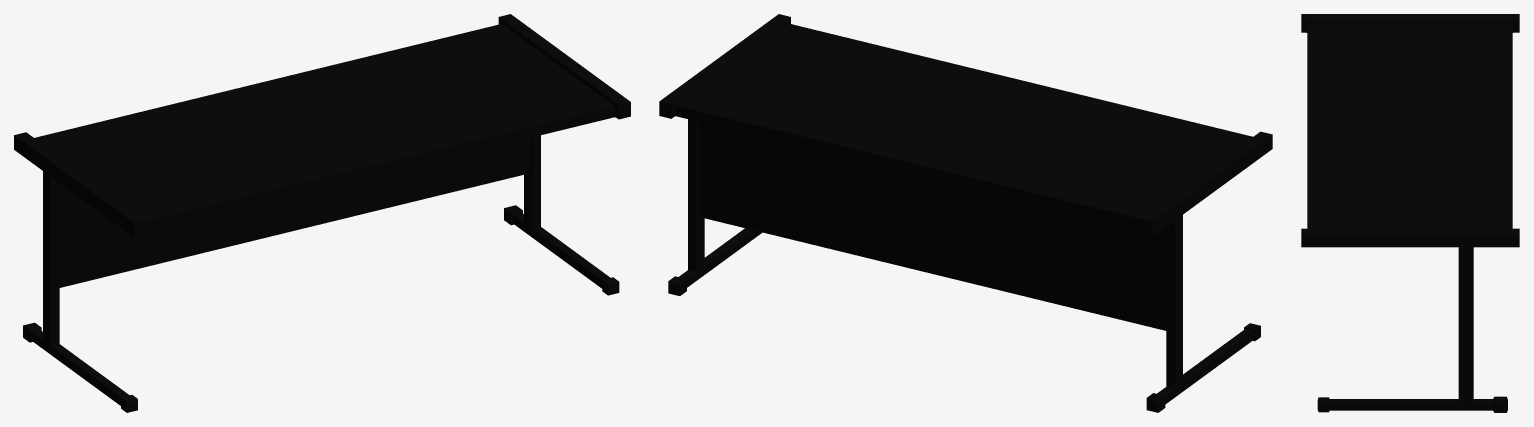
File: MesaProfessor 1.fbx
3 renders of one model, left to right at view 1: azimuth 30°, elevation 25°; view 2: azimuth 150°, elevation 25°; view 3: azimuth 270°, elevation 25°, orthographic. The views are drawn at different scales.
Visible parts, largest first — view 1: Cube.002; view 2: Cube.002; view 3: Cube.002.
Part boxes in pixels (x1=…): Cube.002: x1=14, y1=14, x2=630, y2=412; Cube.002: x1=659, y1=14, x2=1272, y2=412; Cube.002: x1=1301, y1=14, x2=1519, y2=412.
Size of the model in its own units: 991 by 377 by 415.
Materials: 1 (1 with a texture image).
